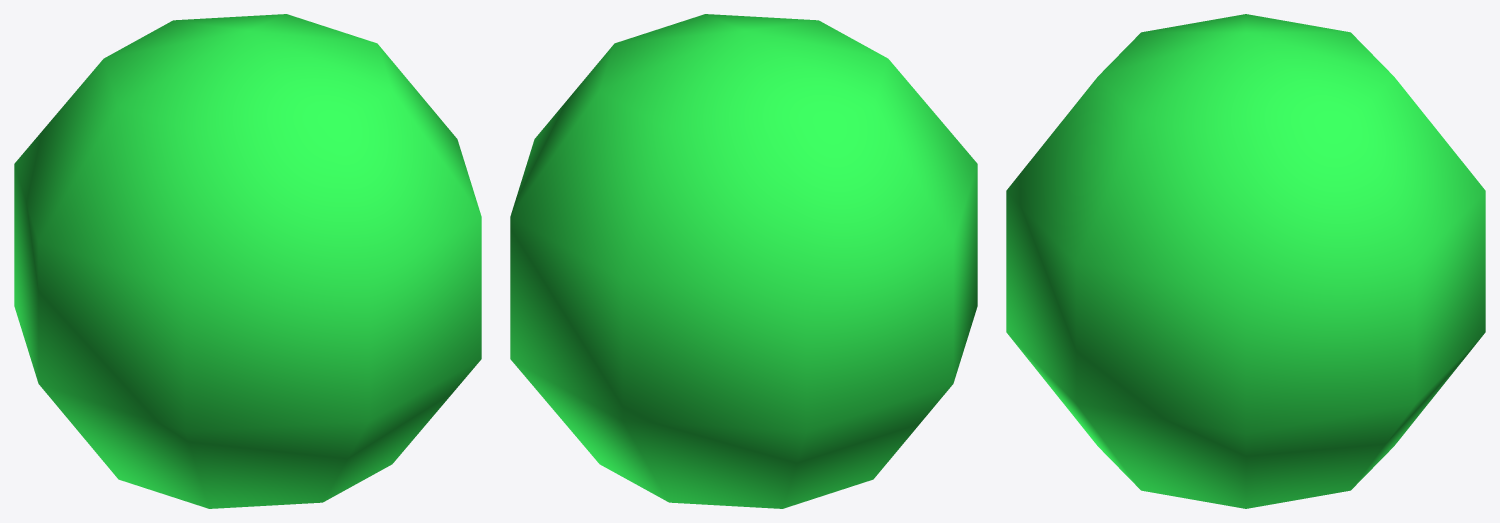
File: bne_afl_green.dae
3 renders of one model, left to right at view 1: azimuth 30°, elevation 25°; view 2: azimuth 150°, elevation 25°; view 3: azimuth 270°, elevation 25°, orthographic.
Parts seen in each view (by area): view 1: glow2; view 2: glow2; view 3: glow2.
Boxes of the visible parts, left/top/right/bottom form: glow2: left=14, top=14, right=481, bottom=508; glow2: left=510, top=14, right=977, bottom=508; glow2: left=1006, top=14, right=1485, bottom=508.
Size of the model in its own units: 1.86 by 1.86 by 1.96.
